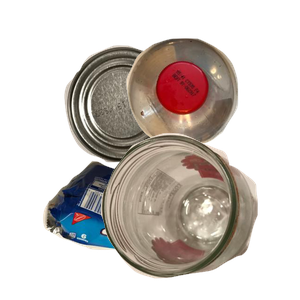glass: (98, 131, 300, 300)
metal: (62, 43, 232, 198)
plastic: (124, 36, 300, 175)
trash: (40, 158, 245, 300)
